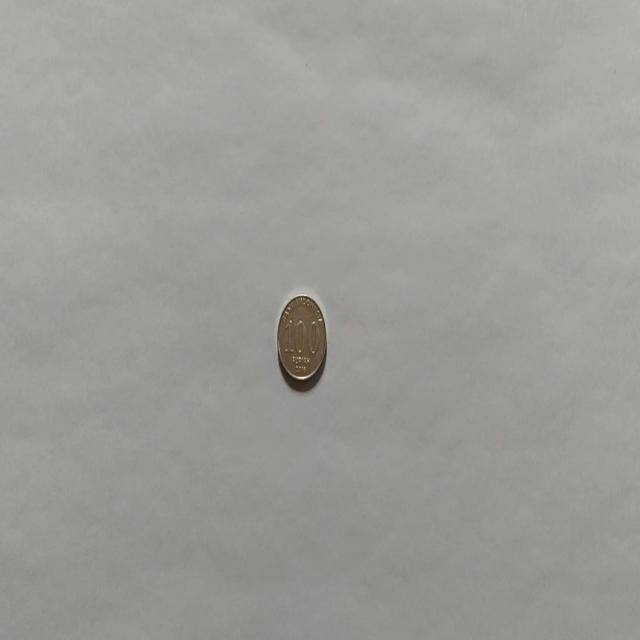seratus rupiah: (276, 293, 327, 383)
